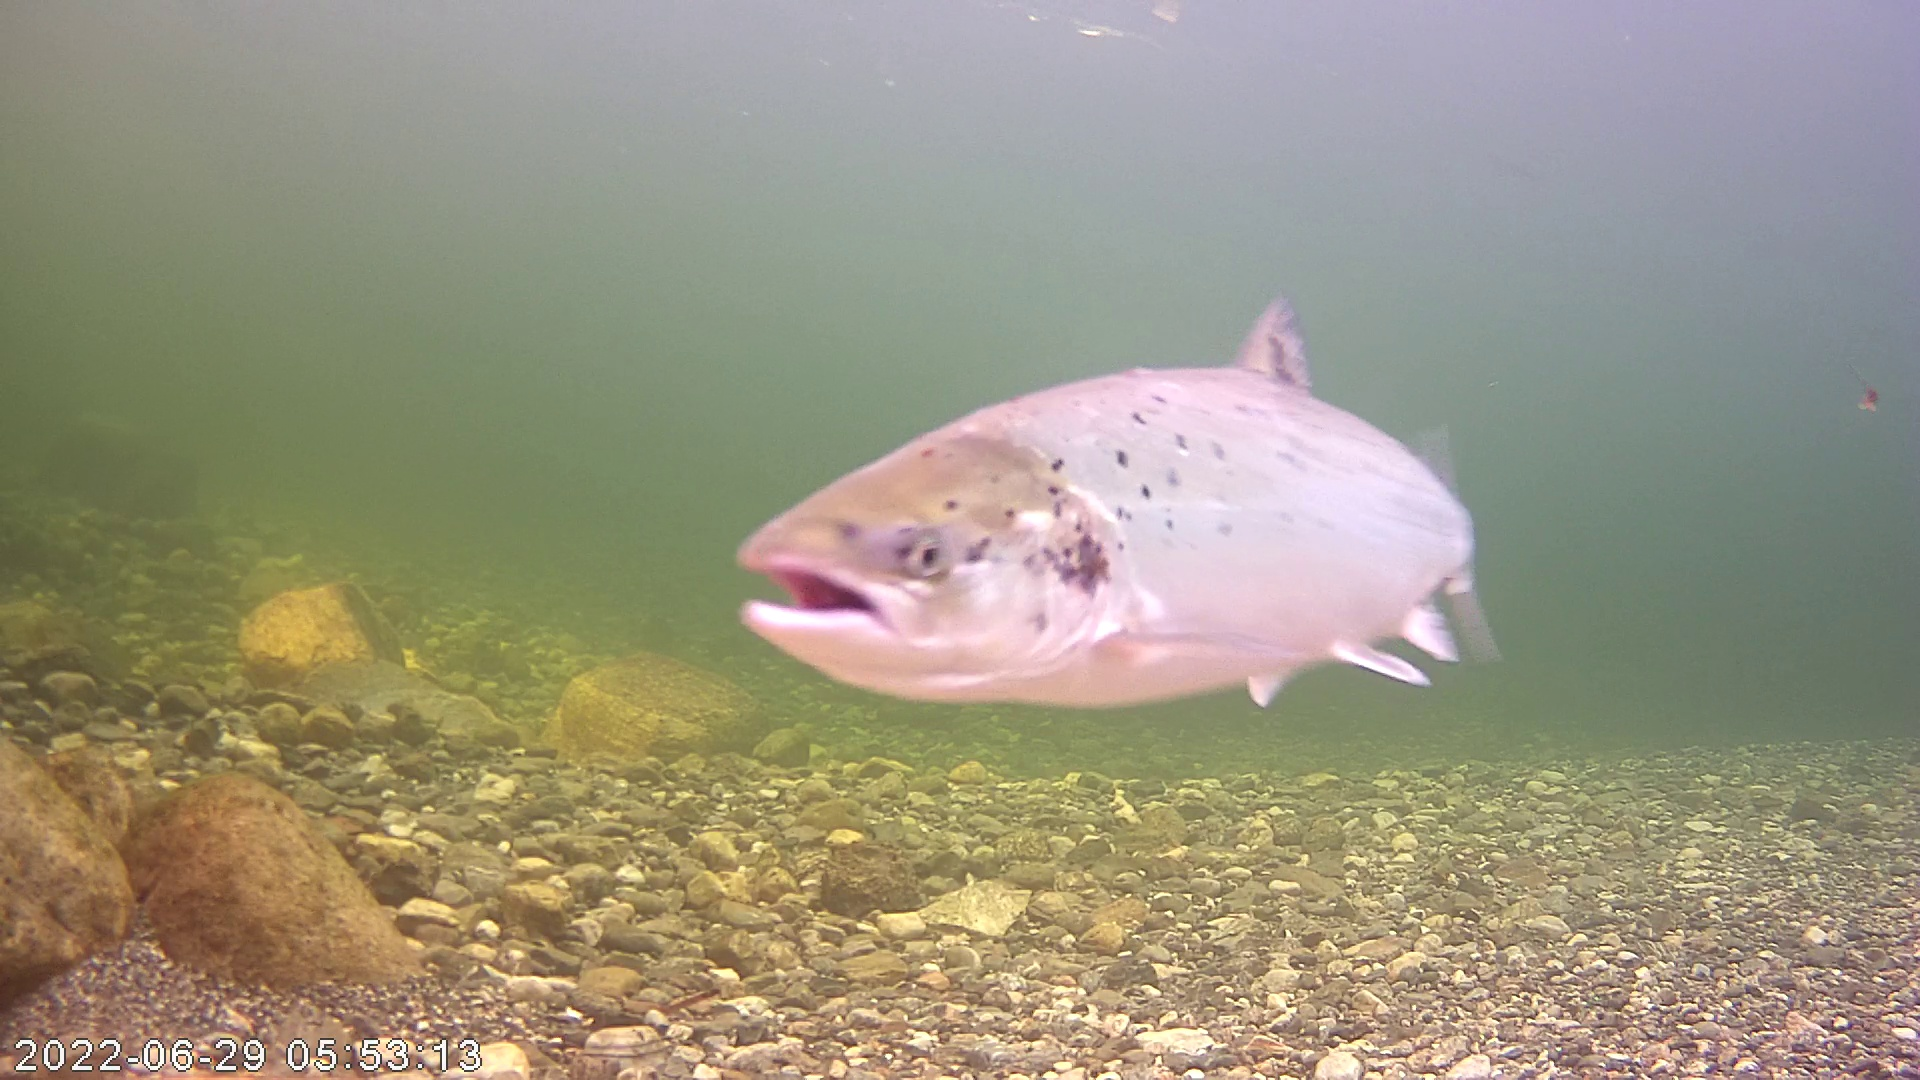salmon: (720, 233, 1497, 724)
